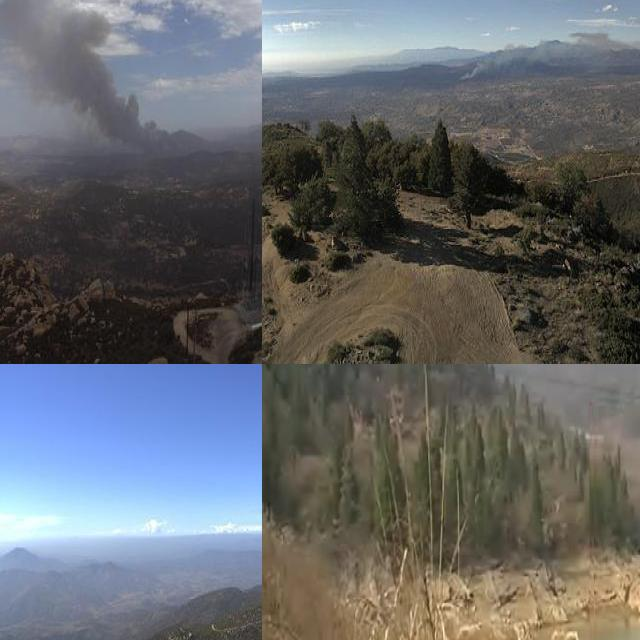smoke: (0, 0, 208, 162), (454, 25, 622, 81)
